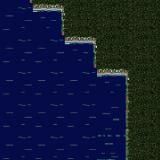Interaction: (111, 88, 141, 160), (88, 49, 111, 88), (111, 60, 141, 88), (27, 0, 75, 15), (55, 14, 75, 50), (75, 29, 111, 49)
Slow: (0, 0, 32, 160), (32, 12, 61, 160), (61, 44, 94, 160), (94, 76, 123, 160)
